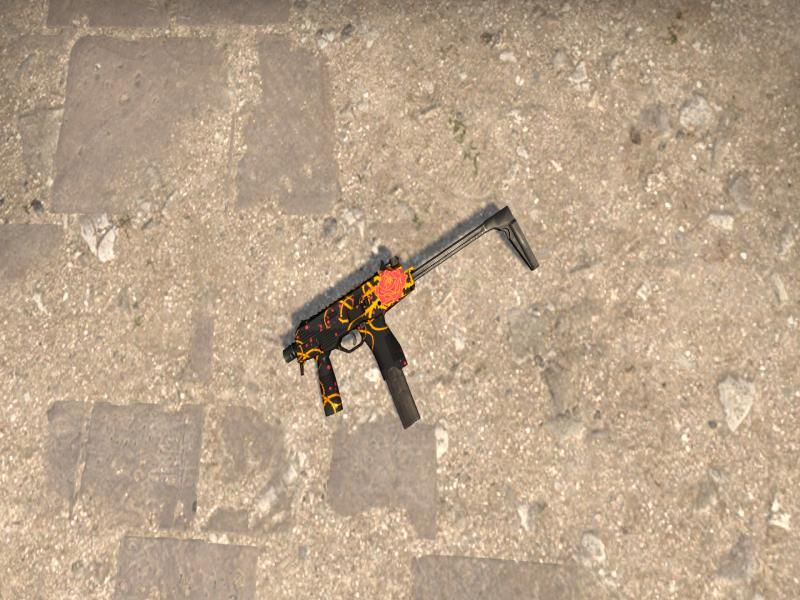MP9: (283, 207, 539, 428)
